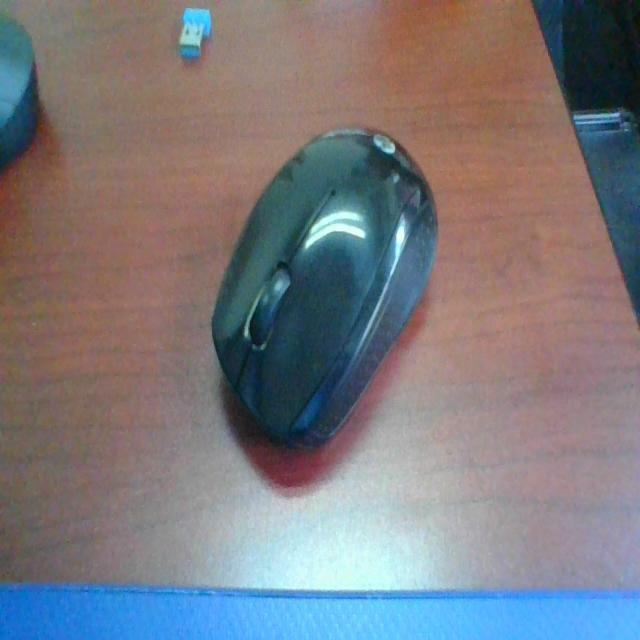Mouse: (198, 110, 470, 460)
